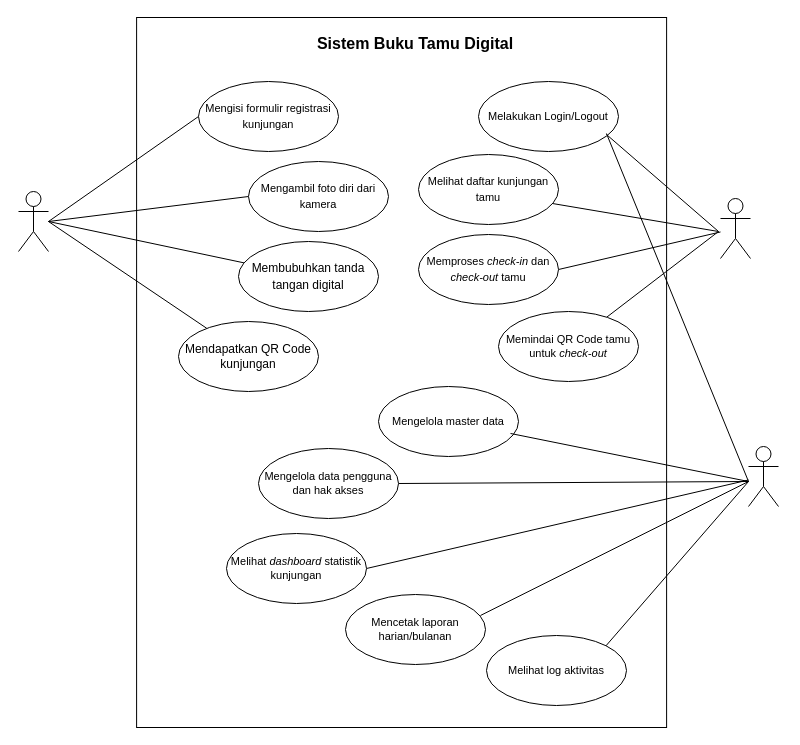
Image size: 800x745. Some labels were removed from this diagram. Here are the shapes that lost their labels. From the top down, the centre of each, then its label:
At (x=33, y=221): "TAMU".
At (x=735, y=228): "RESEPSIONIS".
At (x=763, y=476): "ADMIN".
